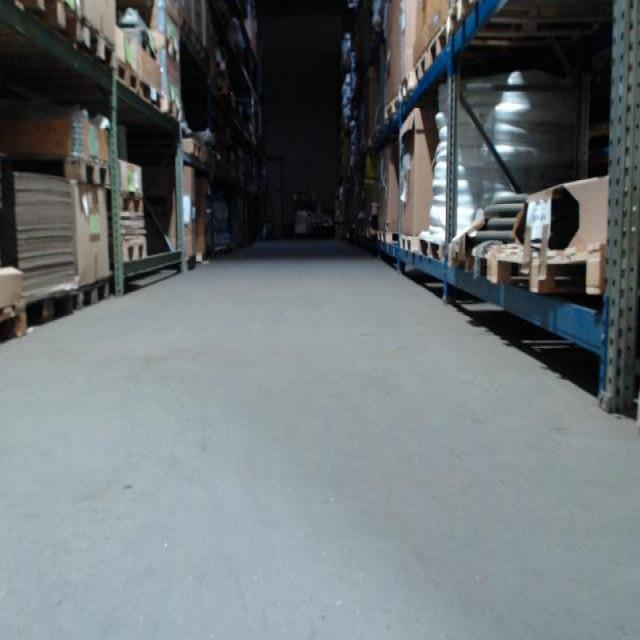pallet: (487, 239, 604, 300), (25, 288, 74, 328), (34, 0, 79, 43), (81, 18, 118, 69), (64, 154, 110, 187), (73, 279, 110, 313), (449, 0, 481, 39), (401, 235, 444, 261), (429, 18, 449, 69), (116, 59, 140, 94), (119, 237, 146, 263), (413, 46, 429, 88), (117, 191, 144, 215), (158, 34, 181, 62), (383, 91, 400, 123), (182, 136, 203, 159), (400, 73, 413, 105), (376, 230, 396, 244)
